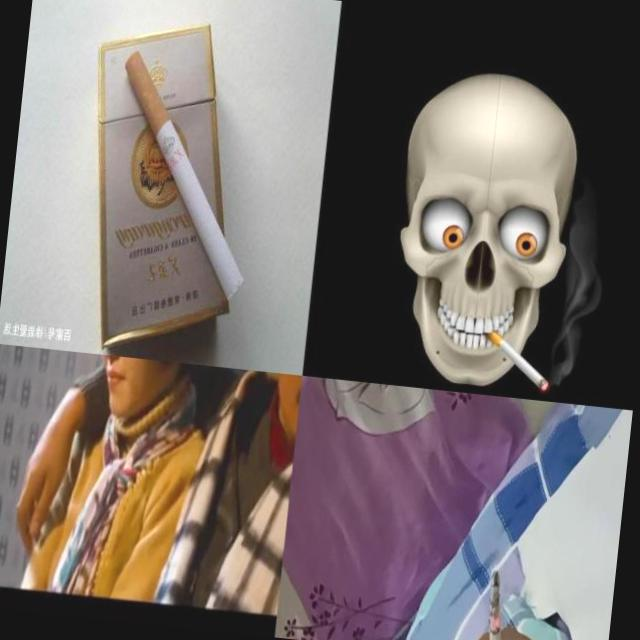cigarette: (101, 49, 266, 300), (482, 330, 554, 392), (482, 569, 514, 640)
